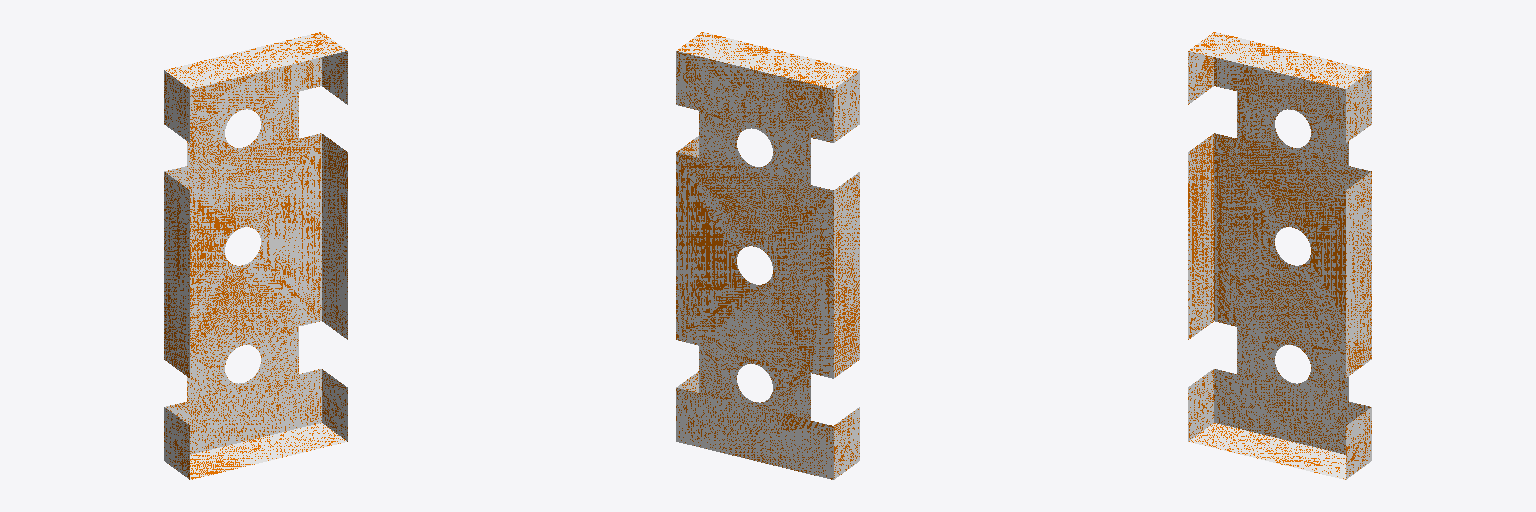
The model's file is original-12.obj.
3 views of the same model, side by side, from view 1: azimuth 30°, elevation 25°; view 2: azimuth 150°, elevation 25°; view 3: azimuth 330°, elevation 25° (orthographic).
Parts seen in each view (by area): view 1: 3dw.228b41e91b3eac5e6eed87081bea555c/Model/Group1/mesh1/mesh1-ge; view 2: 3dw.228b41e91b3eac5e6eed87081bea555c/Model/Group1/mesh1/mesh1-ge; view 3: 3dw.228b41e91b3eac5e6eed87081bea555c/Model/Group1/mesh1/mesh1-ge.
Boxes of the visible parts, <box> form: 3dw.228b41e91b3eac5e6eed87081bea555c/Model/Group1/mesh1/mesh1-ge: <box>164,32,347,479</box>; 3dw.228b41e91b3eac5e6eed87081bea555c/Model/Group1/mesh1/mesh1-ge: <box>676,32,859,479</box>; 3dw.228b41e91b3eac5e6eed87081bea555c/Model/Group1/mesh1/mesh1-ge: <box>1188,32,1371,479</box>.
Size of the model in its own units: 0.5854 by 1.39 by 0.1673.